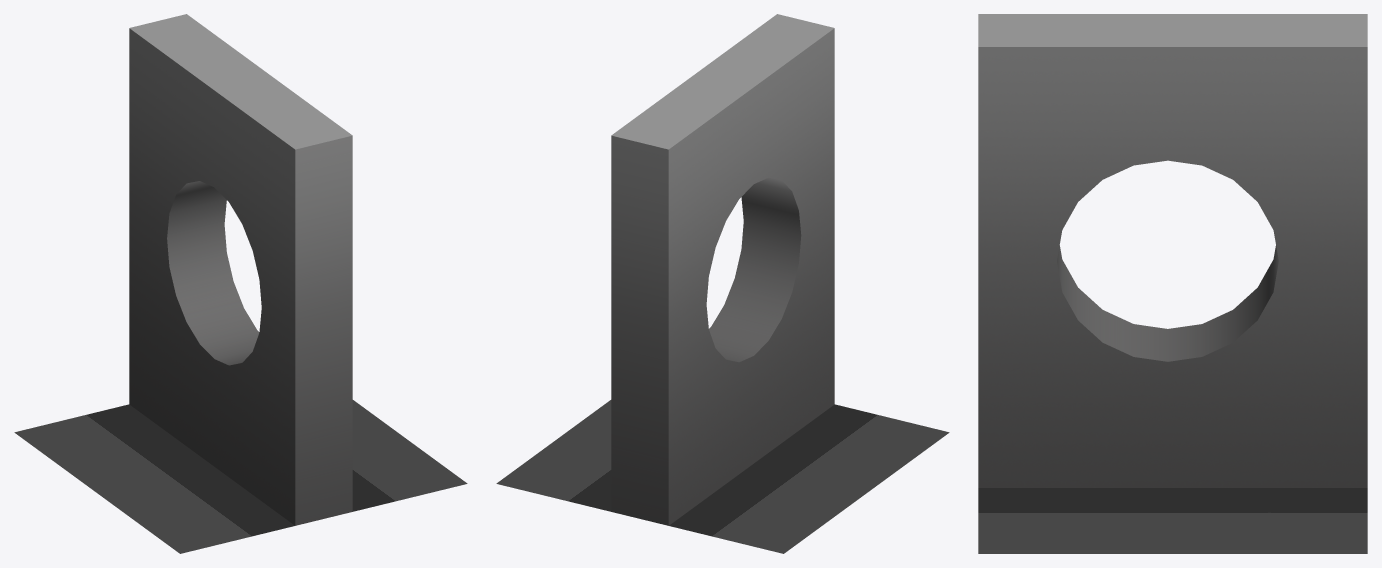
The model's file is SM_MuurRaam.fbx.
3 renders of one model, left to right at view 1: azimuth 30°, elevation 25°; view 2: azimuth 150°, elevation 25°; view 3: azimuth 270°, elevation 25°, orthographic. The views are drawn at different scales.
Visible parts, largest first — view 1: SM_muurRaam; view 2: SM_muurRaam; view 3: SM_muurRaam.
Boxes of the visible parts, x1,y1,x2,y2 form: SM_muurRaam: (14, 14, 467, 553); SM_muurRaam: (496, 14, 949, 553); SM_muurRaam: (978, 14, 1367, 553).
Bounding box in the file's own units: 200 × 250 × 200.
